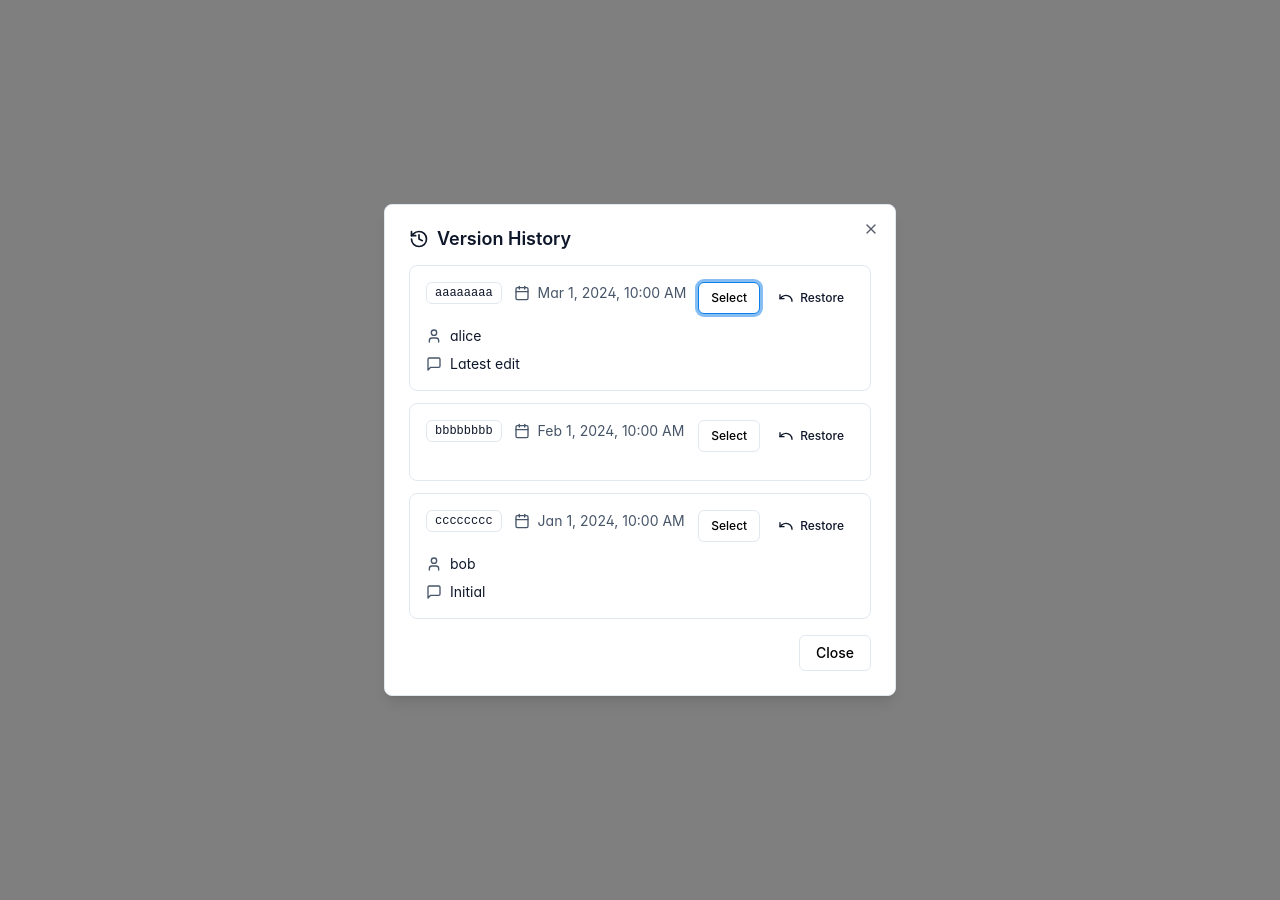
Test case: VersionHistoryModal › starts a new selection when a third version is picked, and clears it
The image size is (1280, 900).
Step 1. Click the button "Select" next to "Mar 1, 2024, 10:00 AM" → click(729, 298), box [698,282,760,314]
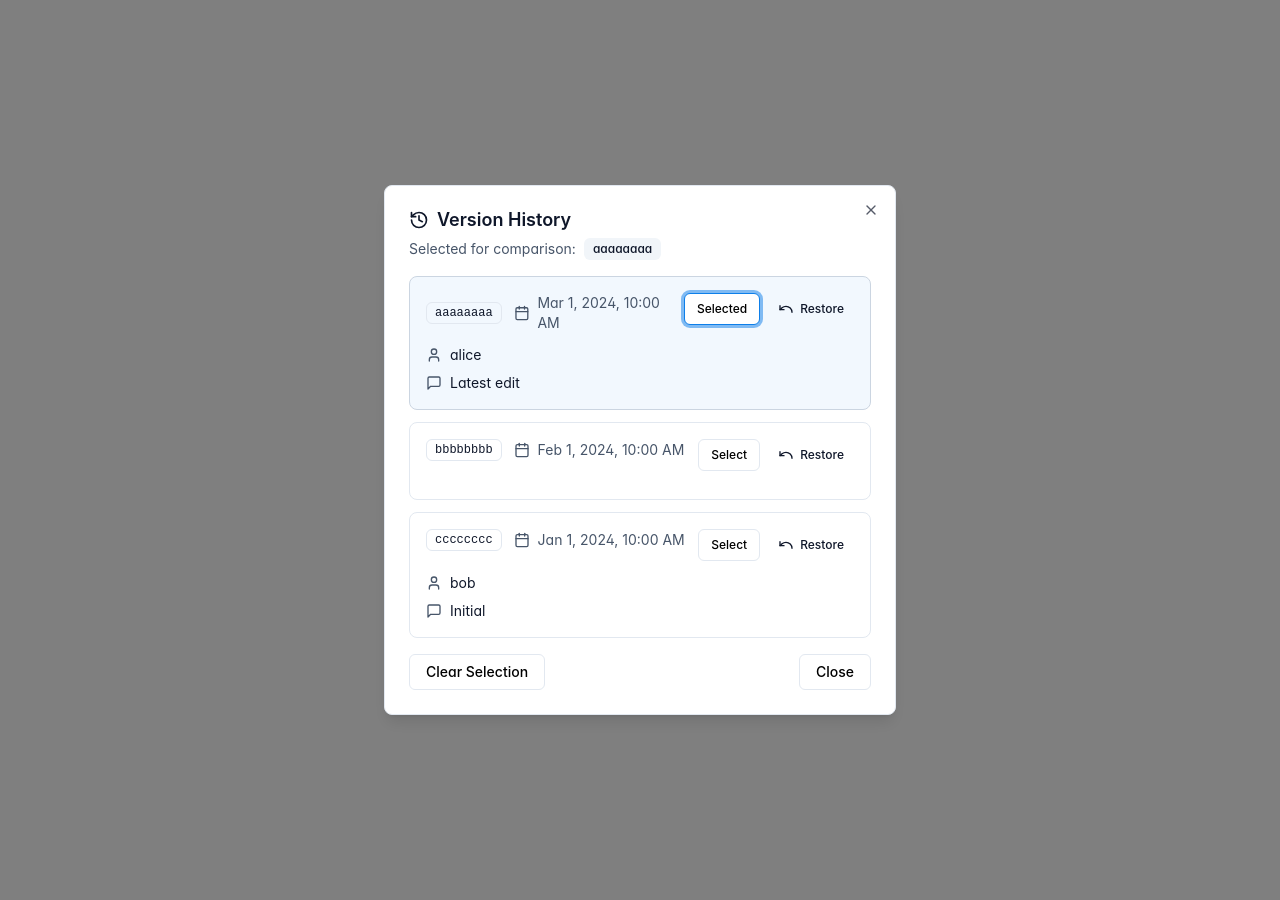
Step 2. Click the button "Select" next to "Feb 1, 2024, 10:00 AM" → click(729, 455), box [698,439,760,471]
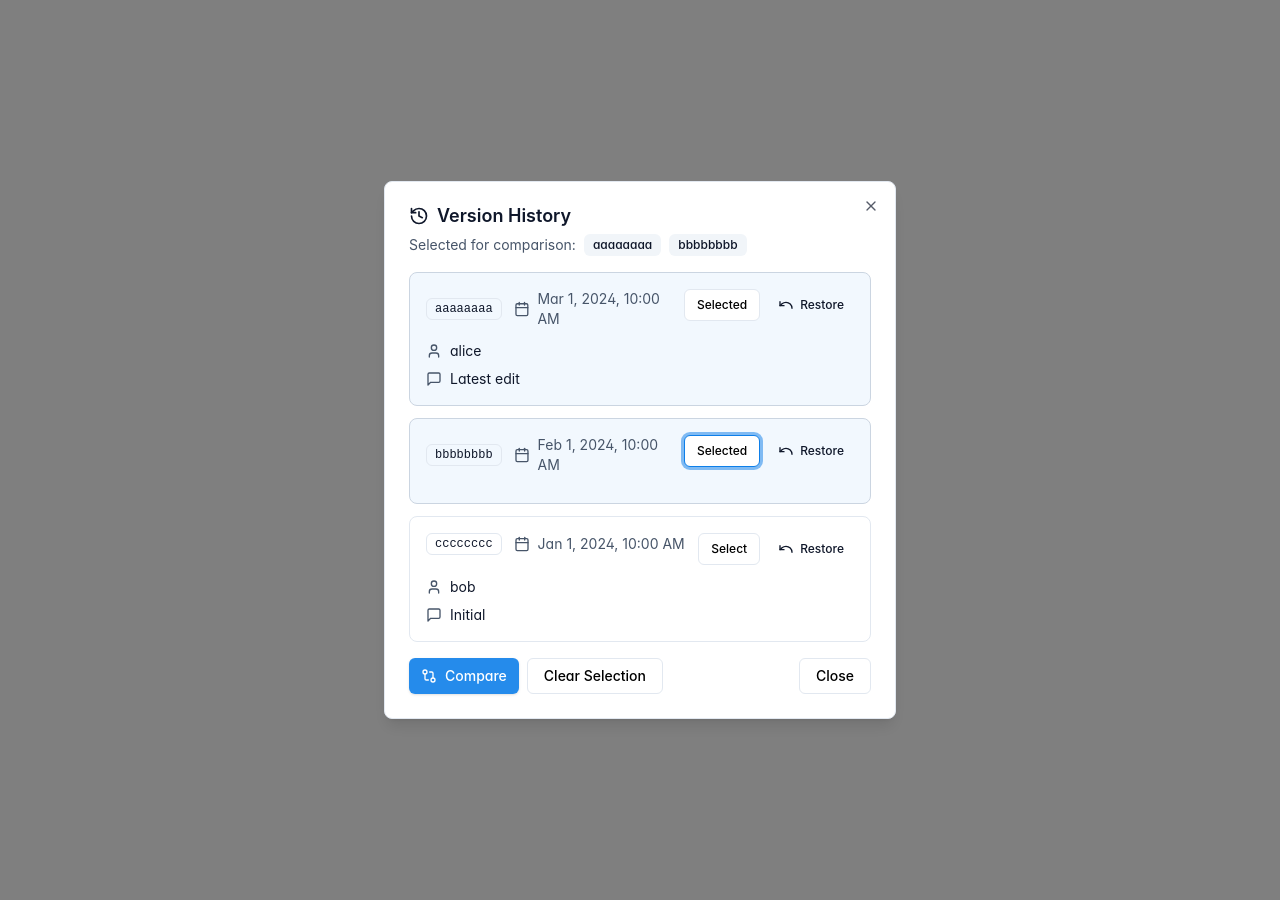
Step 3. Click the button "Select" → click(729, 549), box [698,533,760,565]
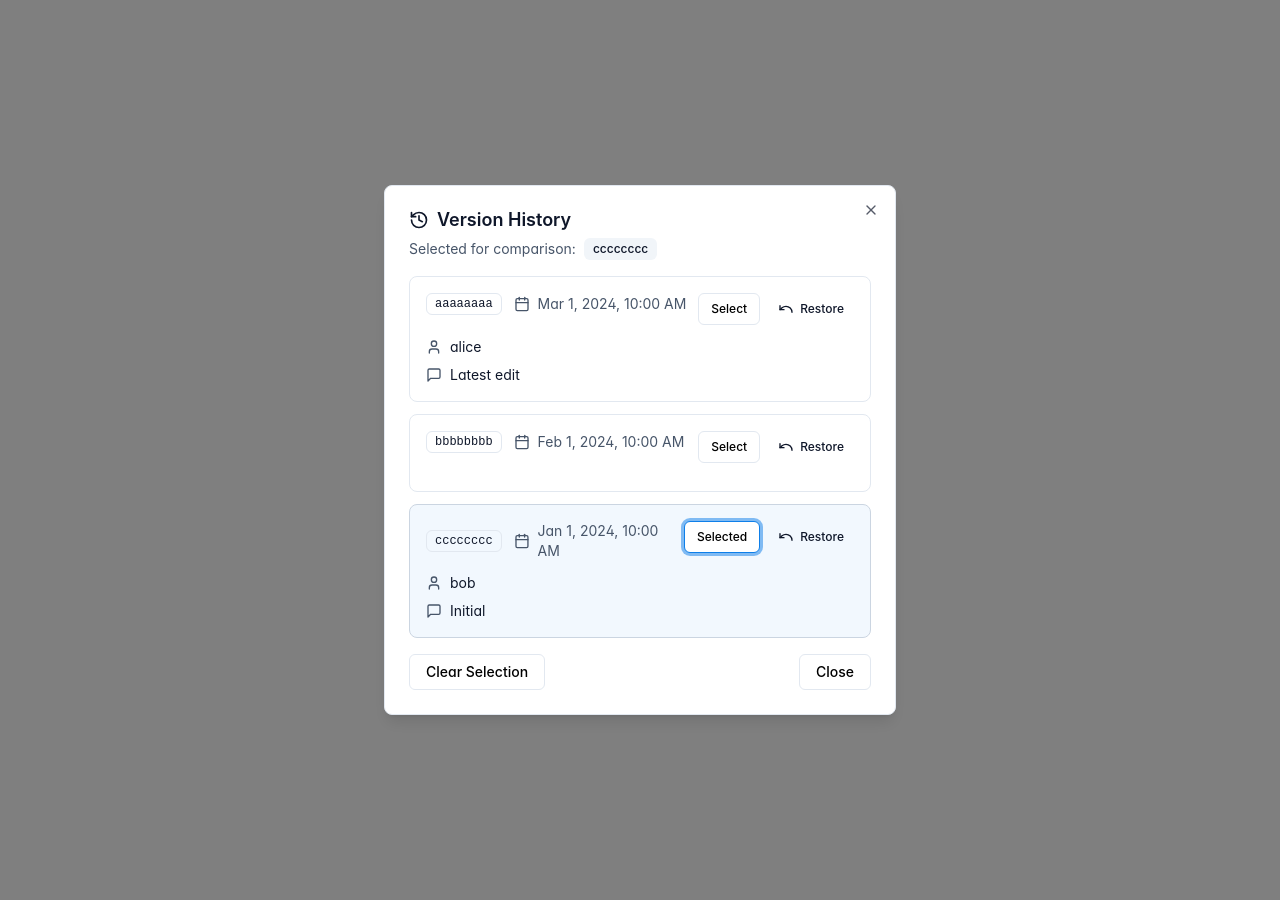
Expected: the button "Selected" is shown, [684,521,760,553]
Expected: the button "Select" next to "Mar 1, 2024, 10:00 AM" is shown, [698,293,760,325]
Expected: the button "Select" next to "Feb 1, 2024, 10:00 AM" is shown, [698,431,760,463]
Step 4. Click the button "Clear Selection" → click(477, 672), box [409,654,545,690]
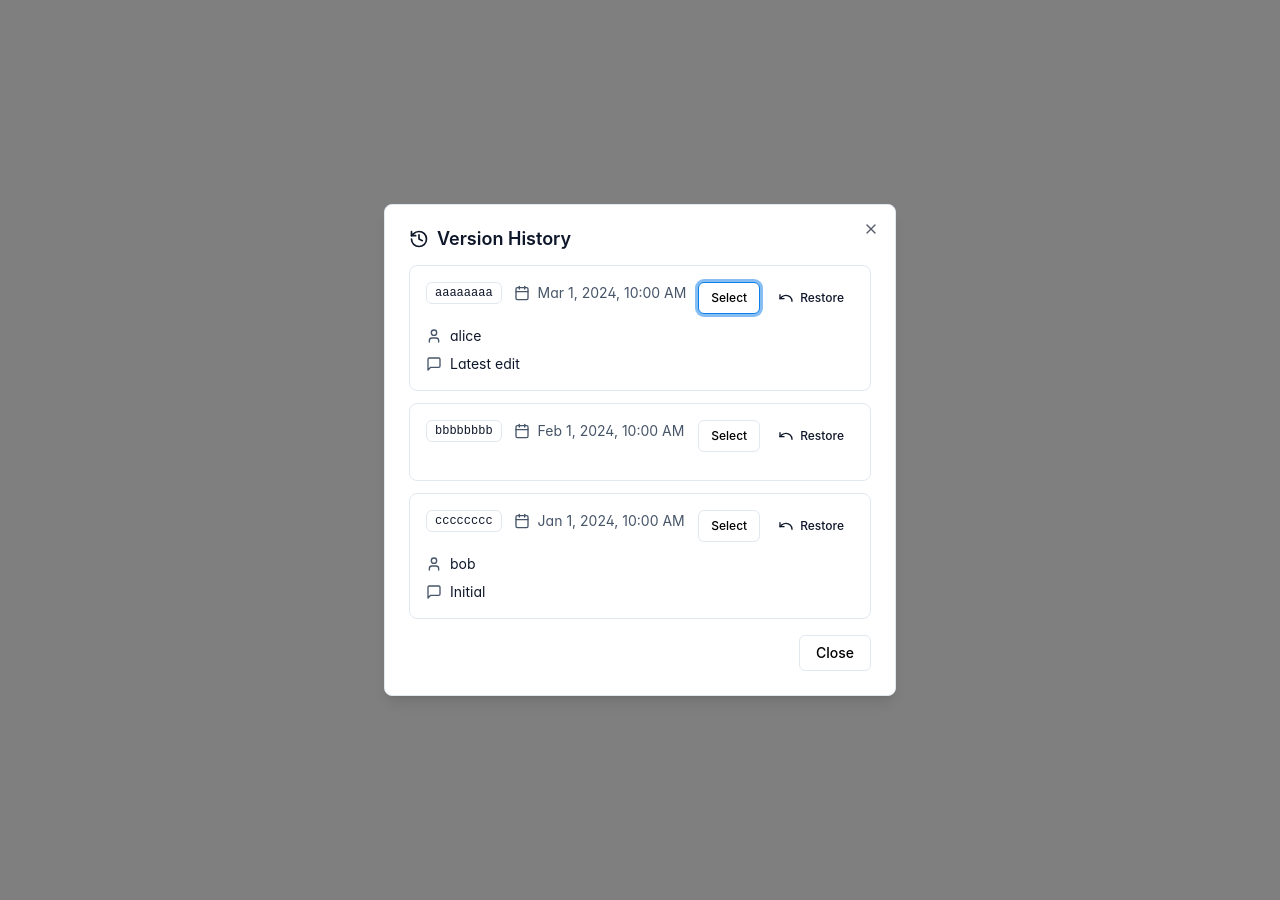
Expected: the text "Selected for comparison:" is gone
